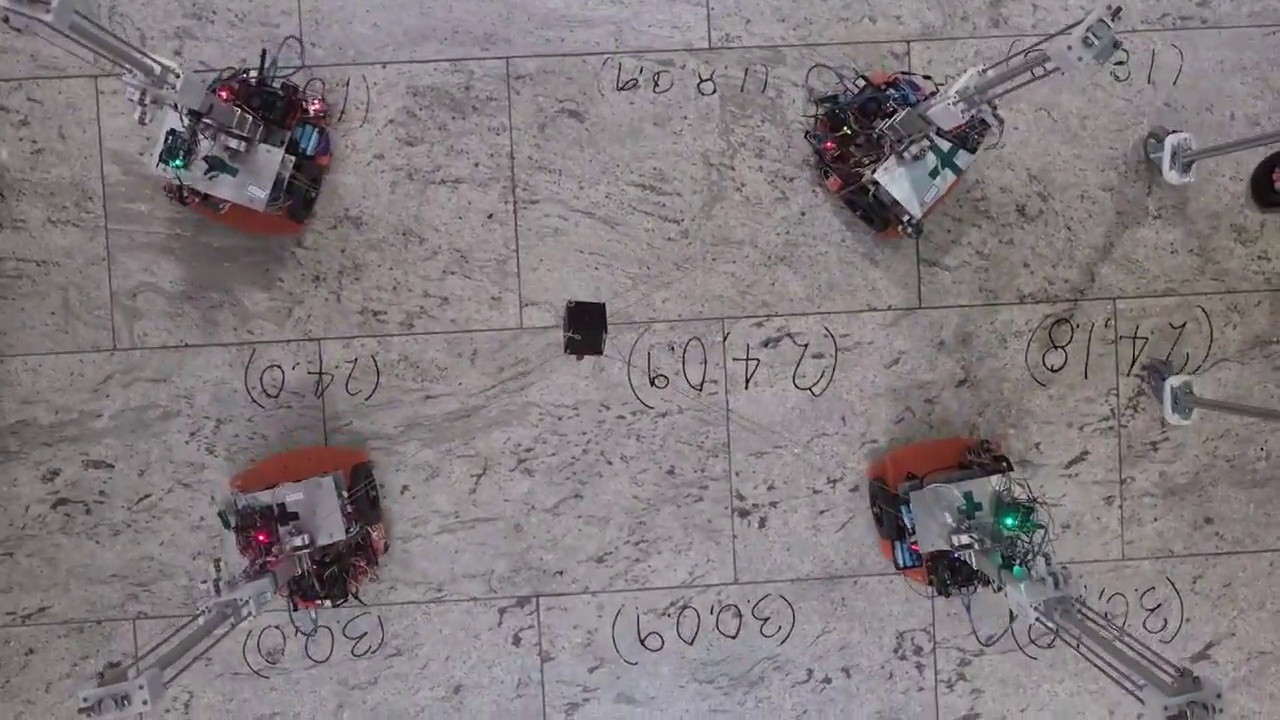e0: (562, 298, 607, 358)
r1: (868, 451, 1016, 543)
r2: (837, 99, 991, 233)
r3: (158, 129, 326, 224)
r4: (232, 461, 384, 558)
y_+_axis_vector: (722, 299, 1114, 319)
y_-_axis_vector: (319, 319, 722, 339)
